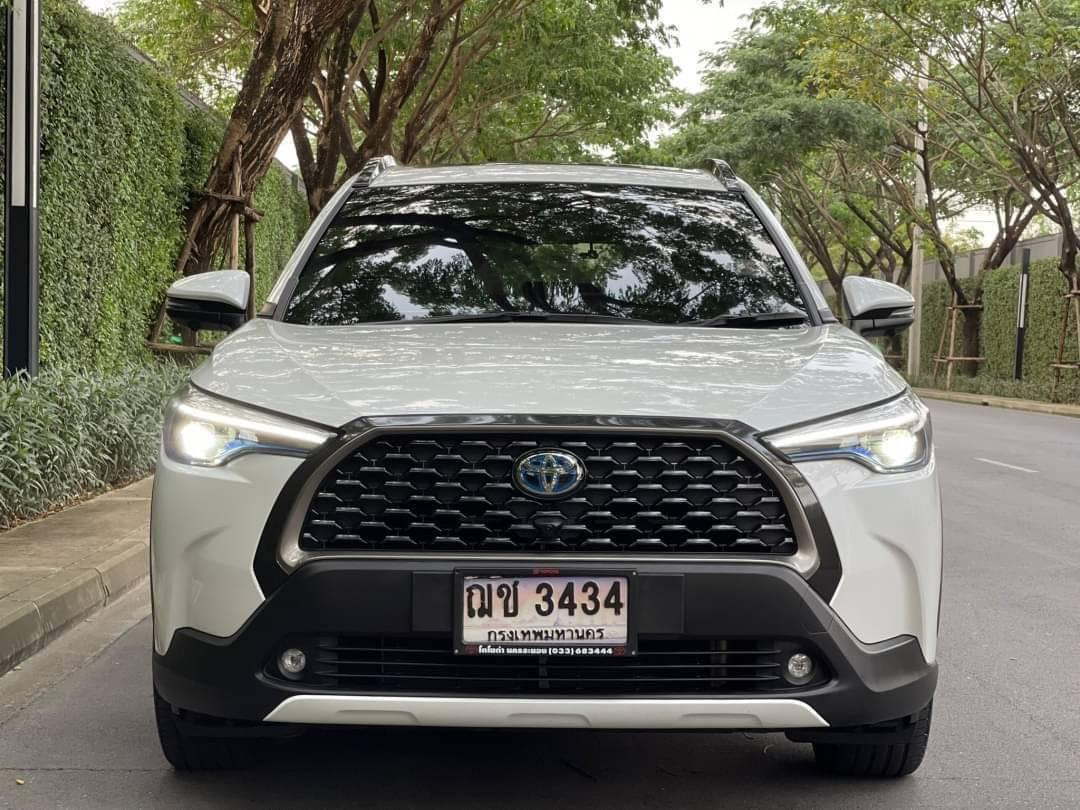license-plate: (454, 566, 636, 661)
